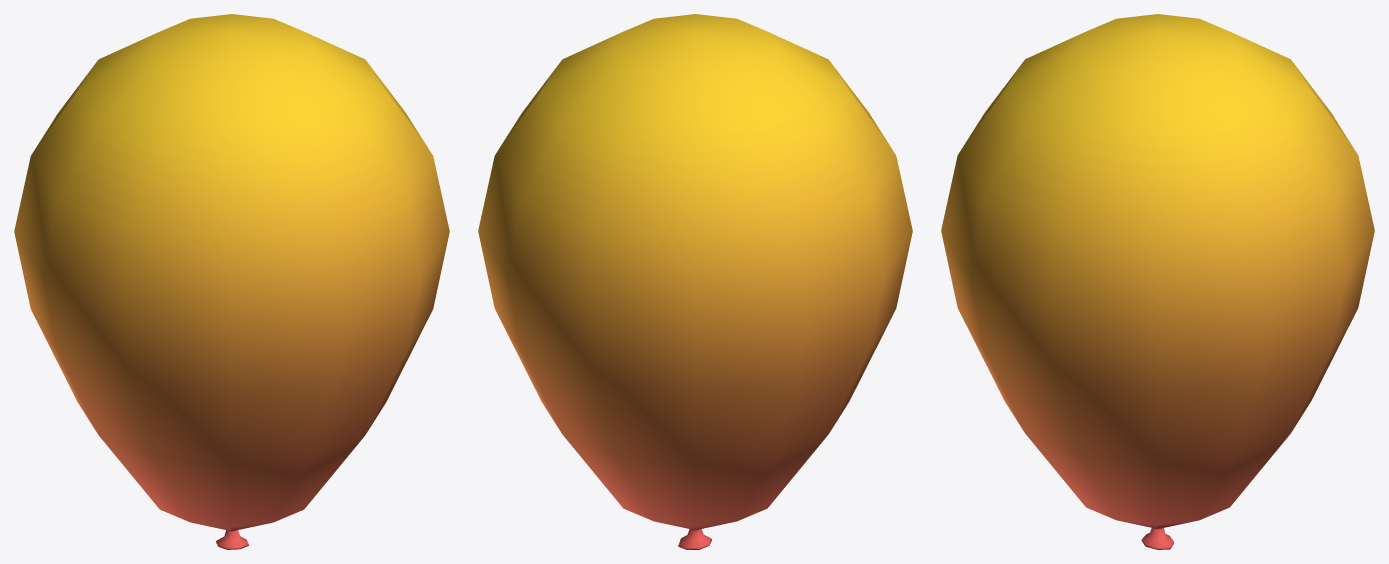
File: SM_balloon_yellow_orange.fbx
3 views of the same model, side by side, from view 1: azimuth 30°, elevation 25°; view 2: azimuth 150°, elevation 25°; view 3: azimuth 270°, elevation 25° (orthographic).
Parts seen in each view (by area): view 1: Cube.027; view 2: Cube.027; view 3: Cube.027.
Part boxes in pixels (box(x1,y1,x2,y2)): Cube.027: box(14, 14, 449, 549); Cube.027: box(478, 14, 912, 549); Cube.027: box(941, 14, 1374, 549).
Bounding box in the file's own units: 121 × 157 × 121.
